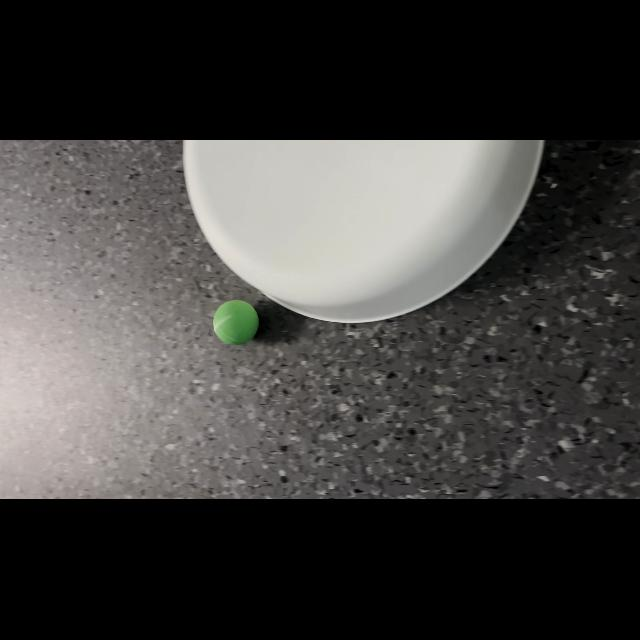objects: (209, 297, 261, 349)
